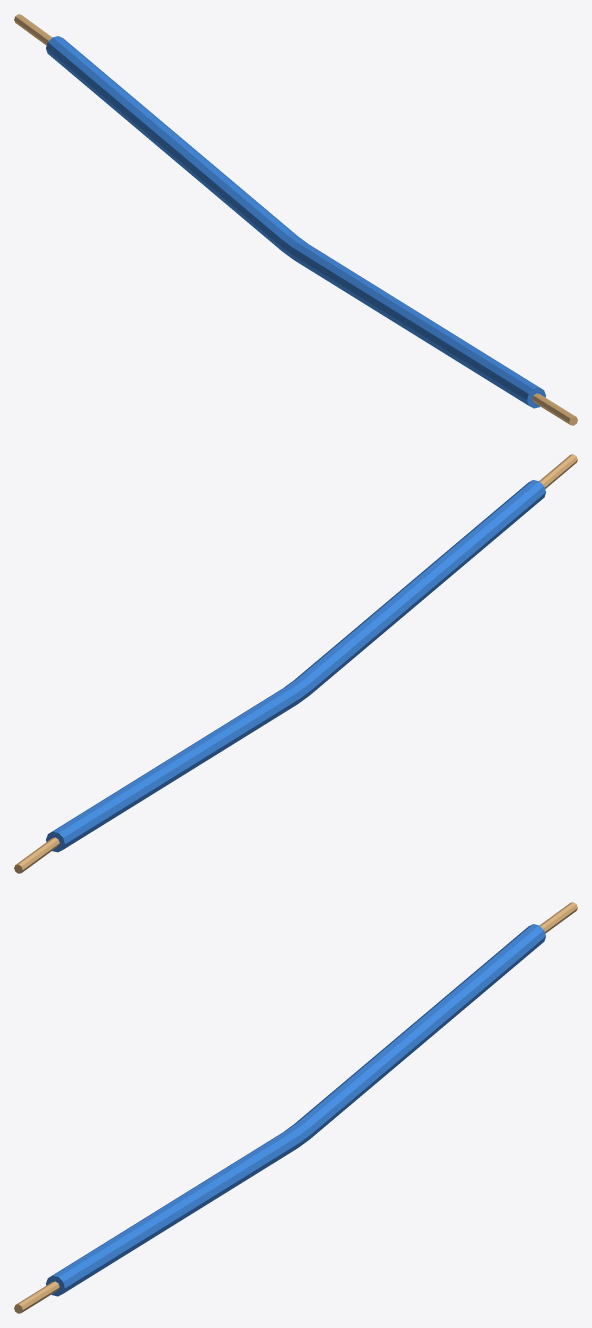
File: wire.glb
3 views of the same model, one above another, from view 1: azimuth 30°, elevation 25°; view 2: azimuth 150°, elevation 25°; view 3: azimuth 330°, elevation 25° (orthographic).
Visible parts, largest first — view 1: body, end-b; view 2: body, end-a; view 3: body, end-b.
Part boxes in pixels (left/top/right/bottom): body: left=46, top=36, right=545, bottom=408; end-b: left=532, top=393, right=577, bottom=425; body: left=46, top=480, right=545, bottom=852; end-a: left=14, top=837, right=59, bottom=873; body: left=46, top=924, right=545, bottom=1296; end-b: left=14, top=1281, right=59, bottom=1313.
Size of what is drawn, in the model's own units: 0.00298 by 0.00674 by 0.15.
